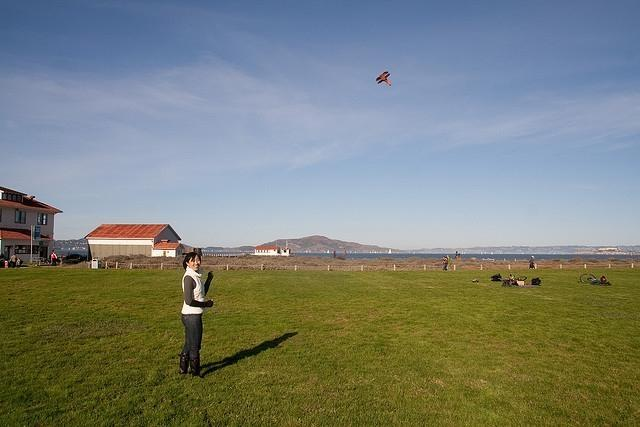bicycle: (580, 274, 608, 284)
